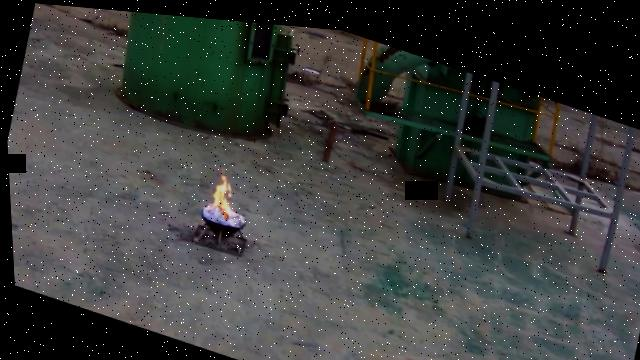fire: (205, 168, 236, 216)
